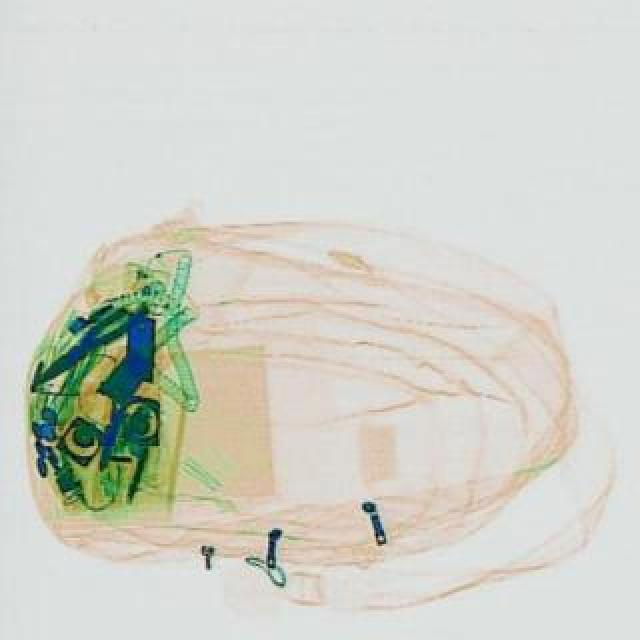wrench: (26, 300, 138, 394)
